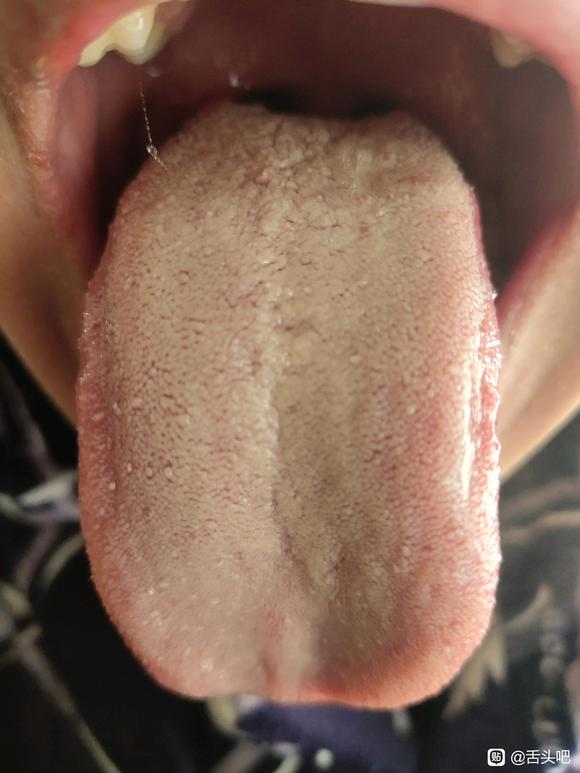gandanao: (77, 293, 128, 595)
huangtaishe: (75, 101, 496, 709)
liewenshe: (247, 117, 344, 356)
